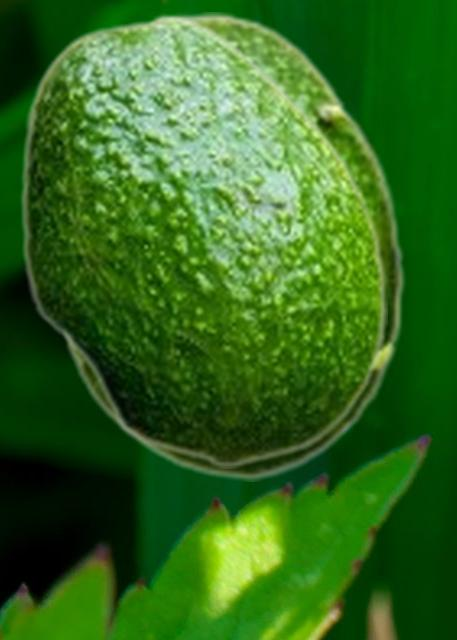avocado: (18, 12, 386, 467), (54, 12, 405, 480)
